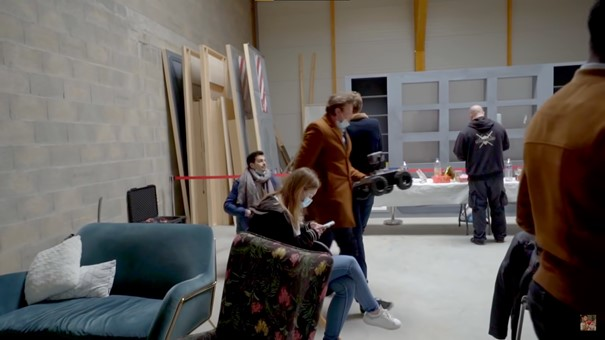with_mask: (332, 106, 352, 132), (301, 188, 317, 212)
without_mask: (248, 157, 266, 173)
